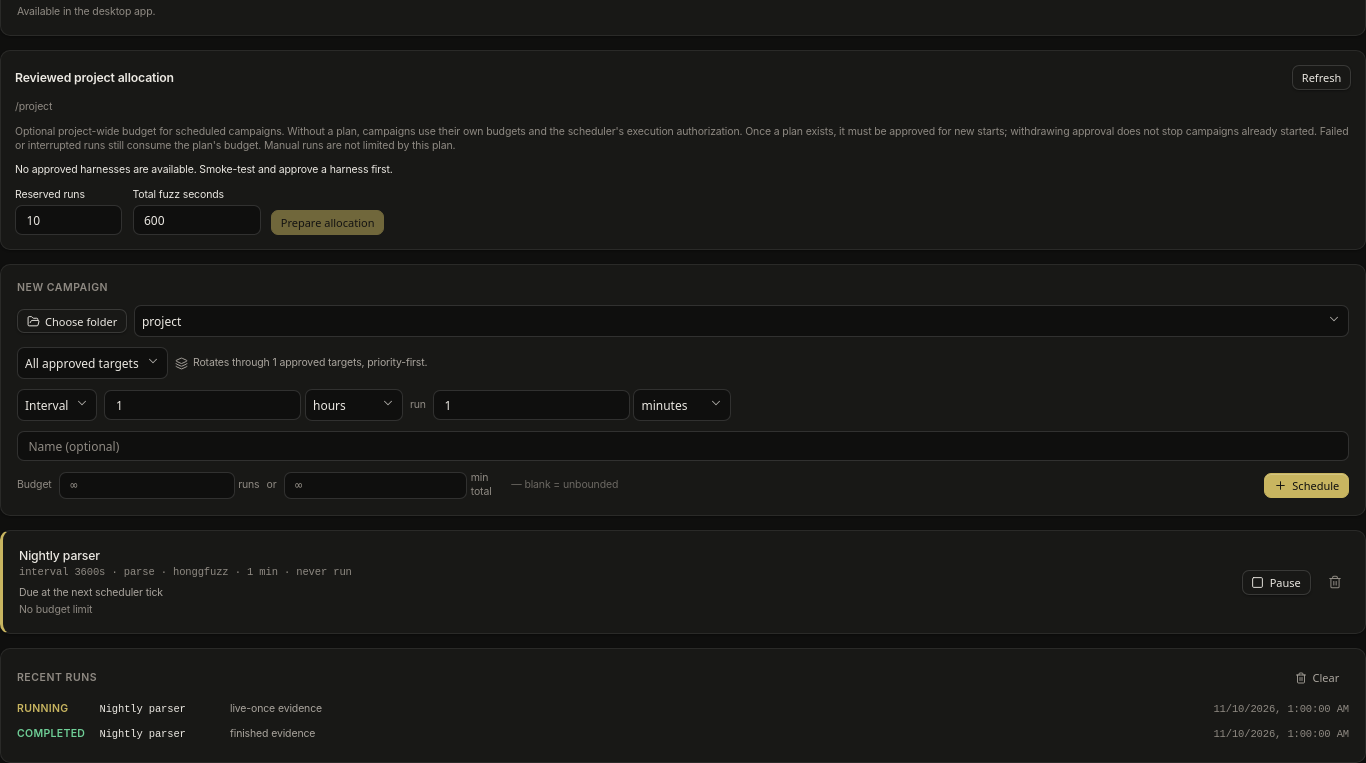
Test: refreshes protected running history after clearing deletable executions
(page scrolled)
Click the button "Clear" at (1317,678), box [1286,665,1349,690]
(page scrolled)
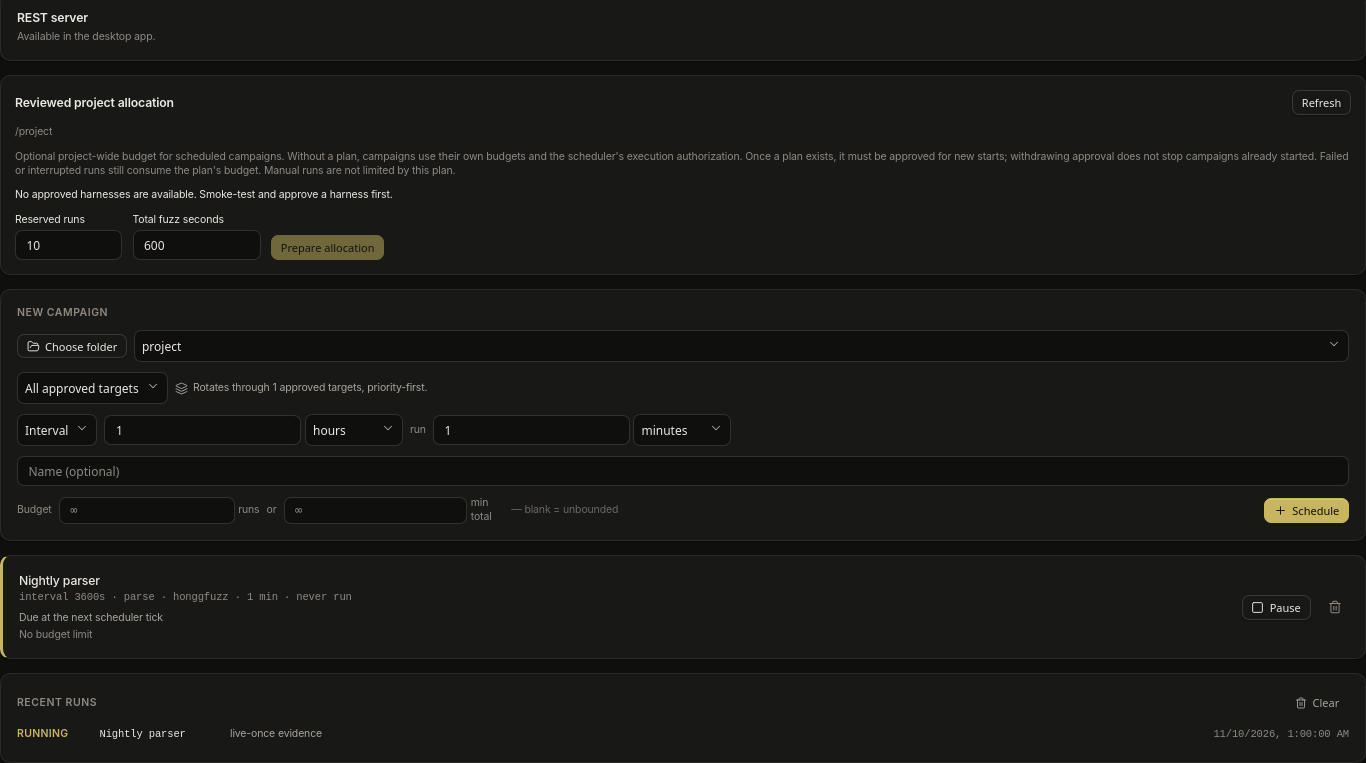
Check: the text "live-once evidence" is shown, box [230,727,322,740]
Check: the text "finished evidence" is gone
